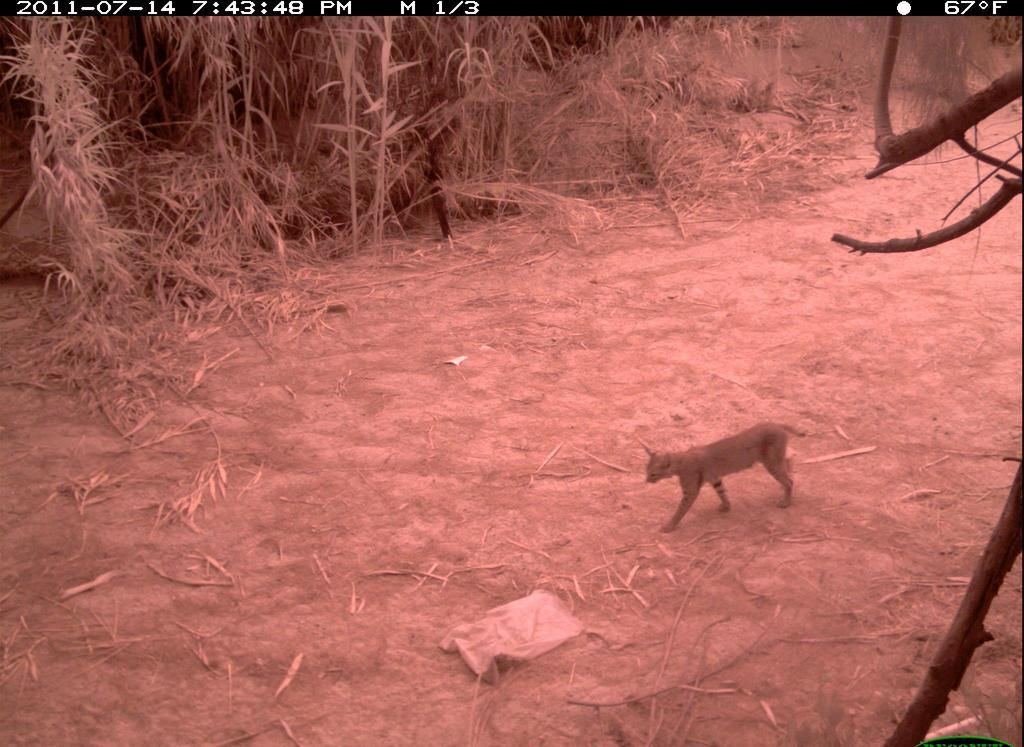bobcat: (637, 418, 811, 537)
